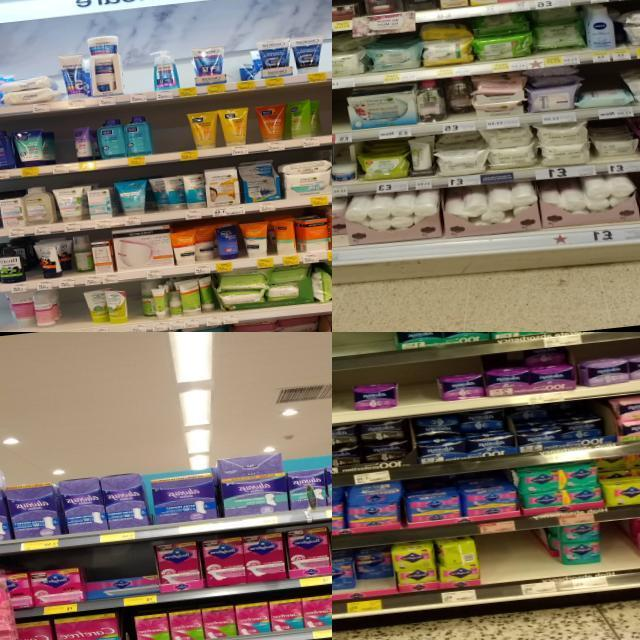Imprecise: (510, 393, 610, 458), (526, 68, 582, 116), (432, 129, 486, 178), (531, 2, 585, 50), (349, 550, 398, 596), (529, 346, 577, 392), (442, 76, 469, 116), (211, 224, 241, 260), (136, 284, 155, 320)
